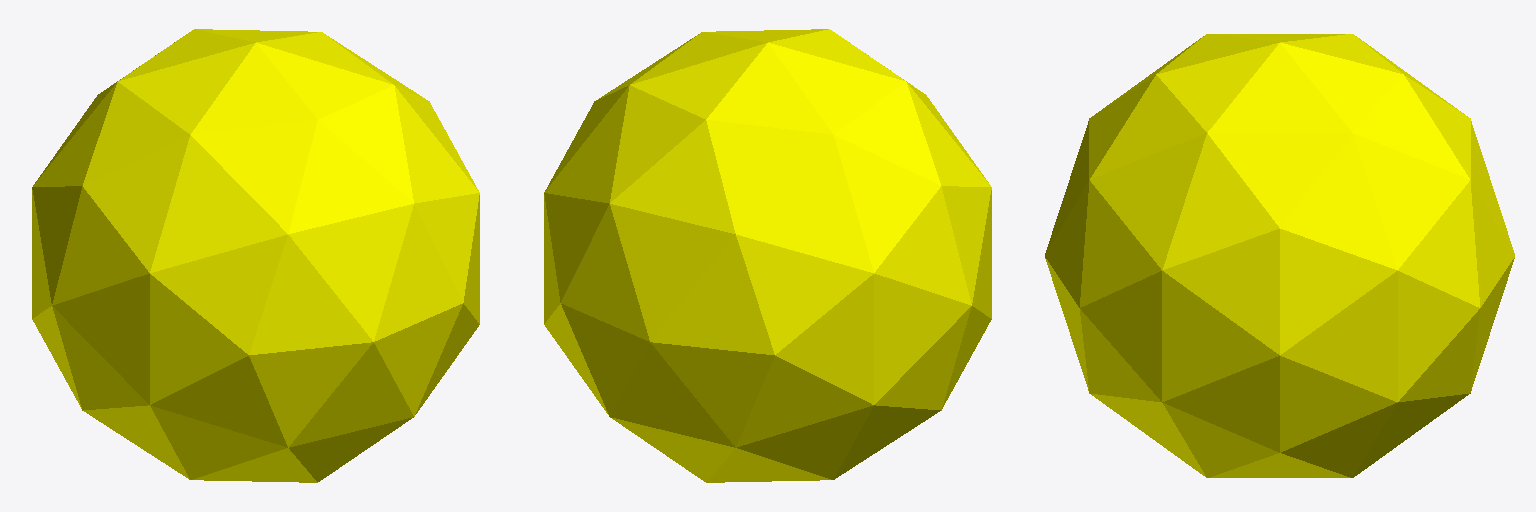
File: yellow_ball.obj
3 views of the same model, side by side, from view 1: azimuth 30°, elevation 25°; view 2: azimuth 150°, elevation 25°; view 3: azimuth 270°, elevation 25° (orthographic).
Visible parts, largest first — view 1: Mesh01; view 2: Mesh01; view 3: Mesh01.
Boxes of the visible parts, x1=… form: Mesh01: x1=32, y1=29, x2=479, y2=482; Mesh01: x1=544, y1=29, x2=991, y2=482; Mesh01: x1=1045, y1=34, x2=1514, y2=477.
Bounding box in the file's own units: 1 × 1 × 1.